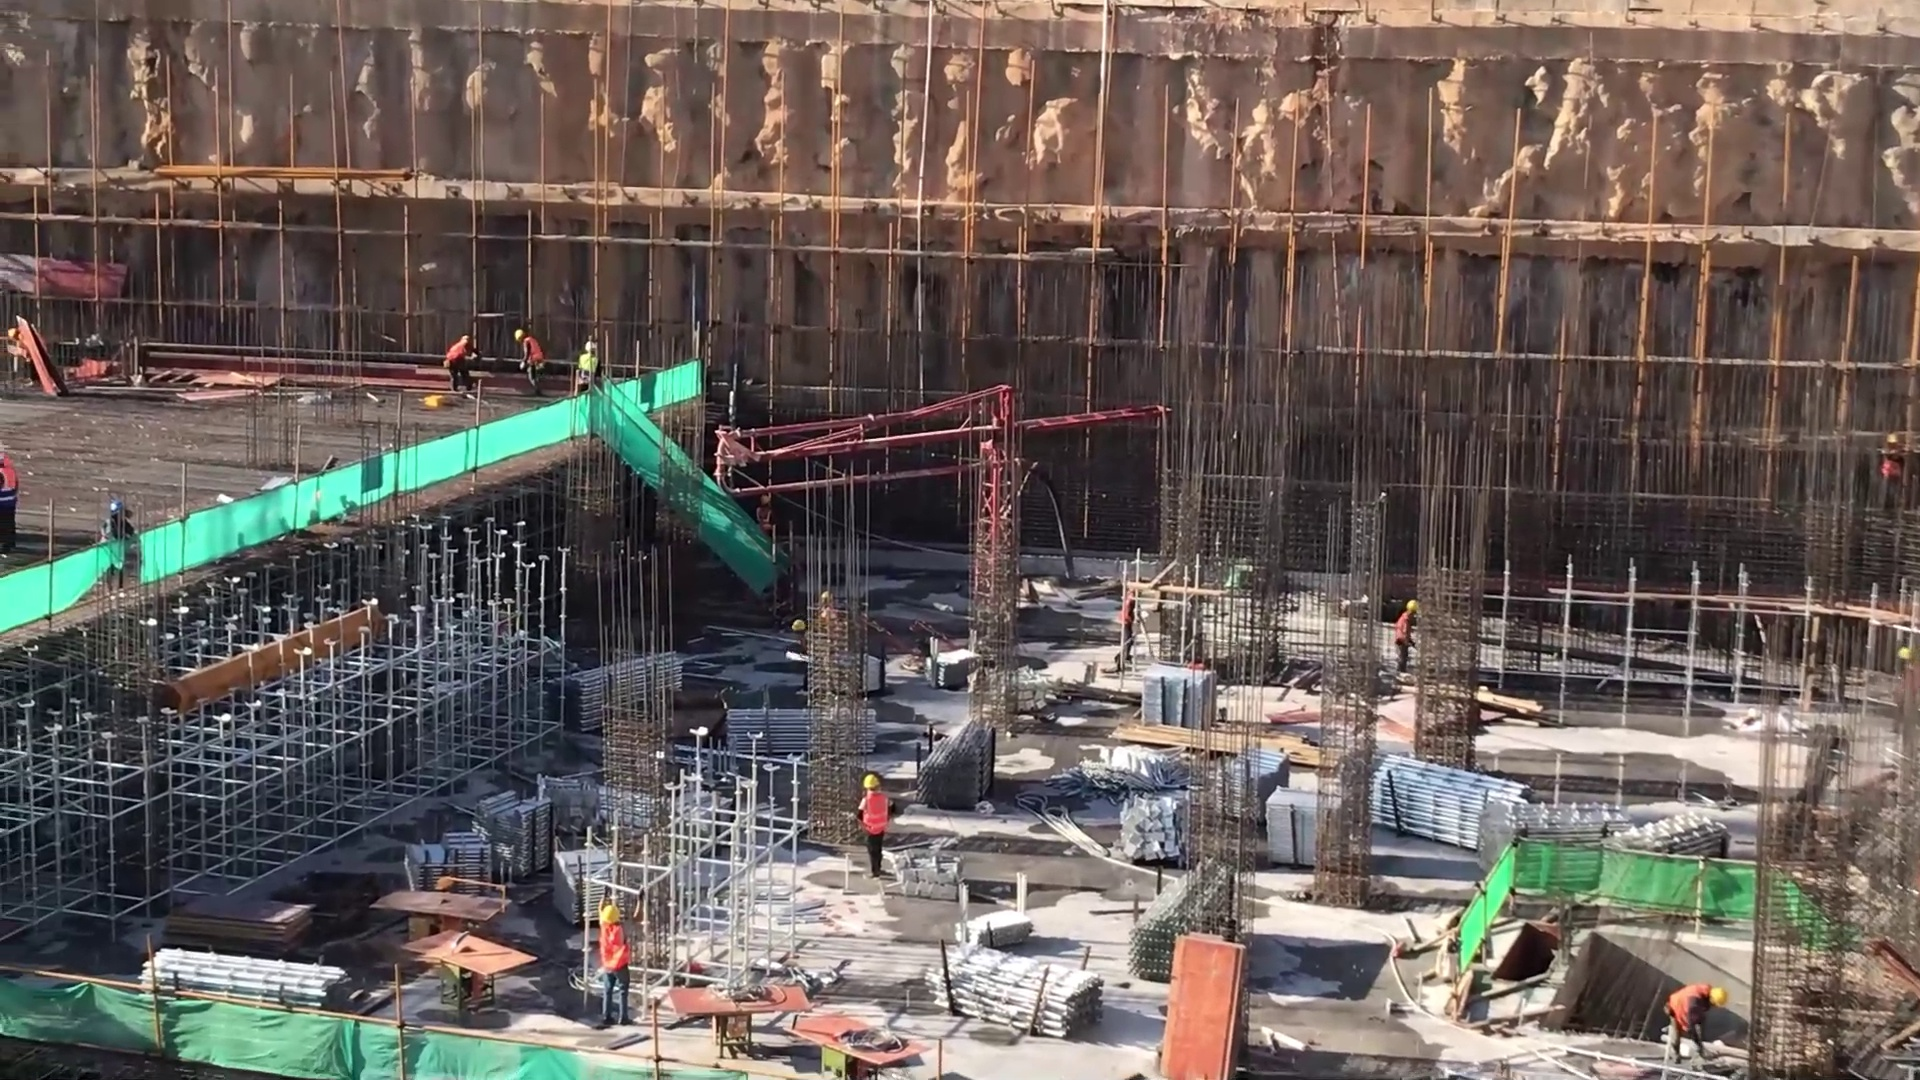cutter: (664, 970, 817, 1062), (397, 927, 543, 1016), (788, 1005, 922, 1080), (374, 881, 513, 946)
helmet: (1707, 984, 1728, 1014), (858, 771, 883, 792), (598, 904, 623, 926), (1401, 591, 1419, 616), (508, 324, 527, 347), (1883, 431, 1901, 447), (580, 337, 596, 355), (458, 333, 475, 346)
person: (1662, 973, 1735, 1069), (591, 898, 641, 1031), (849, 762, 898, 882), (441, 328, 484, 401), (511, 319, 550, 400), (1875, 432, 1909, 518), (1391, 591, 1421, 678), (572, 334, 606, 399)
scaffold: (923, 941, 1111, 1047), (129, 939, 373, 1018), (1361, 749, 1542, 856), (1471, 789, 1637, 897), (544, 654, 687, 725), (910, 714, 1006, 817), (1129, 867, 1197, 993), (1606, 809, 1739, 872), (1132, 654, 1223, 741), (715, 694, 815, 772), (471, 788, 550, 878), (406, 825, 492, 901), (1263, 780, 1324, 880), (558, 851, 613, 917)
vest: (1663, 976, 1711, 1034), (596, 920, 629, 975), (864, 792, 892, 840), (1877, 447, 1908, 482), (1391, 612, 1417, 651), (522, 334, 544, 368), (577, 355, 601, 387), (443, 340, 469, 368)
